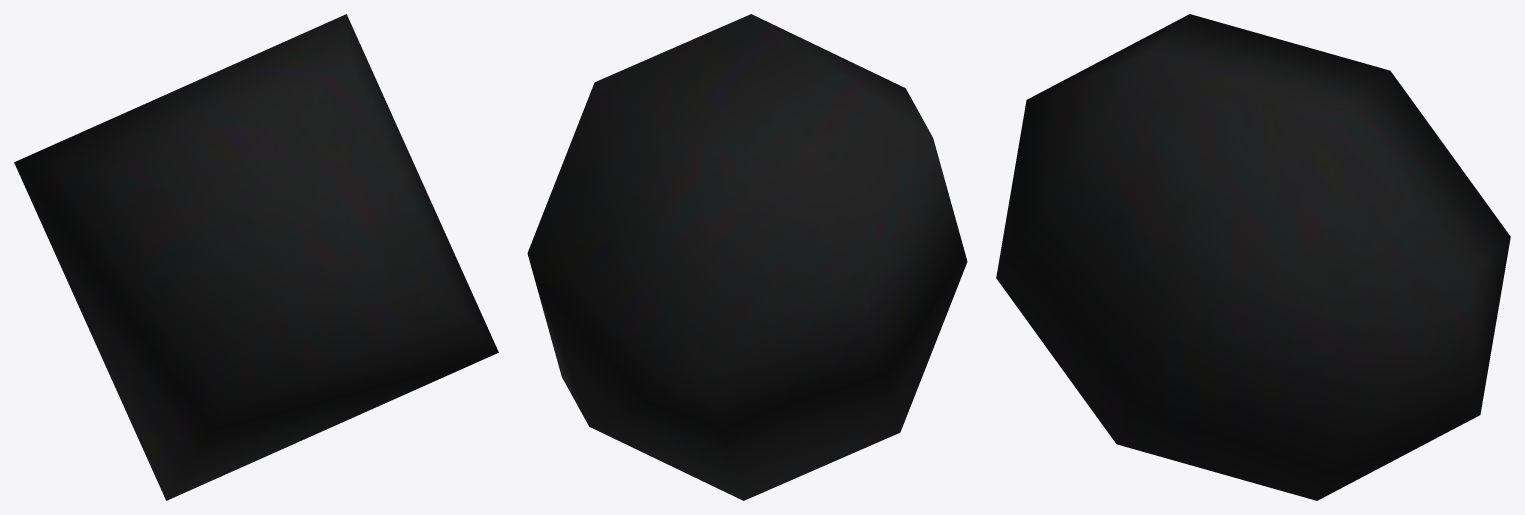
The model's file is Coal.obj.
The picture shows the model from 3 angles, left to right: view 1: azimuth 30°, elevation 25°; view 2: azimuth 150°, elevation 25°; view 3: azimuth 270°, elevation 25°; orthographic projection. The views are drawn at different scales.
Visible parts, largest first — view 1: Cube.007; view 2: Cube.007; view 3: Cube.007.
Part boxes in pixels (x1,y1,x2,y2): Cube.007: (14, 14, 498, 500); Cube.007: (527, 14, 967, 500); Cube.007: (996, 14, 1510, 500).
Size of the model in its own units: 0.323 by 0.3738 by 0.3852.
Materials: 1 (1 with a texture image).
